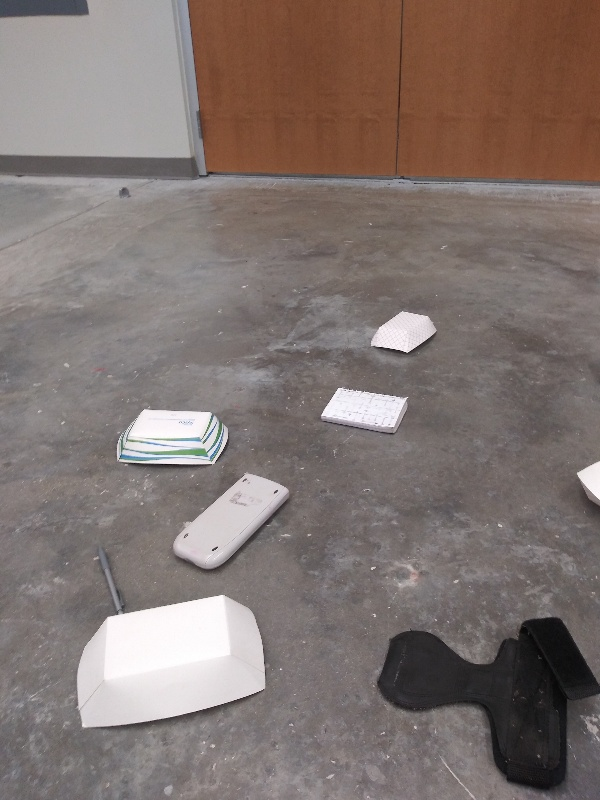plate: (73, 594, 269, 738), (110, 406, 238, 473), (365, 308, 440, 354), (571, 455, 600, 518)
